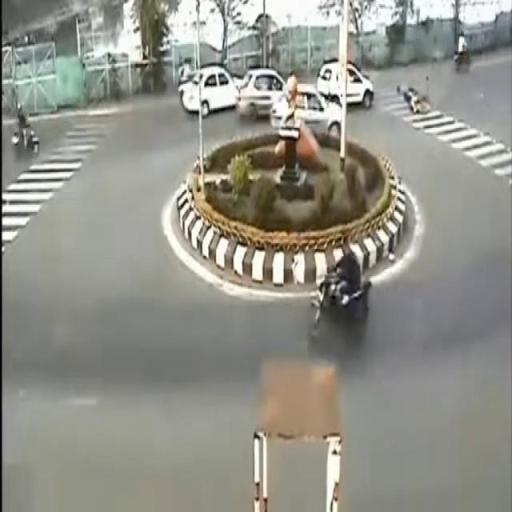小汽车: (275, 86, 347, 140), (228, 72, 295, 122), (181, 67, 246, 116), (318, 61, 376, 108)
自行车: (318, 243, 371, 327)
